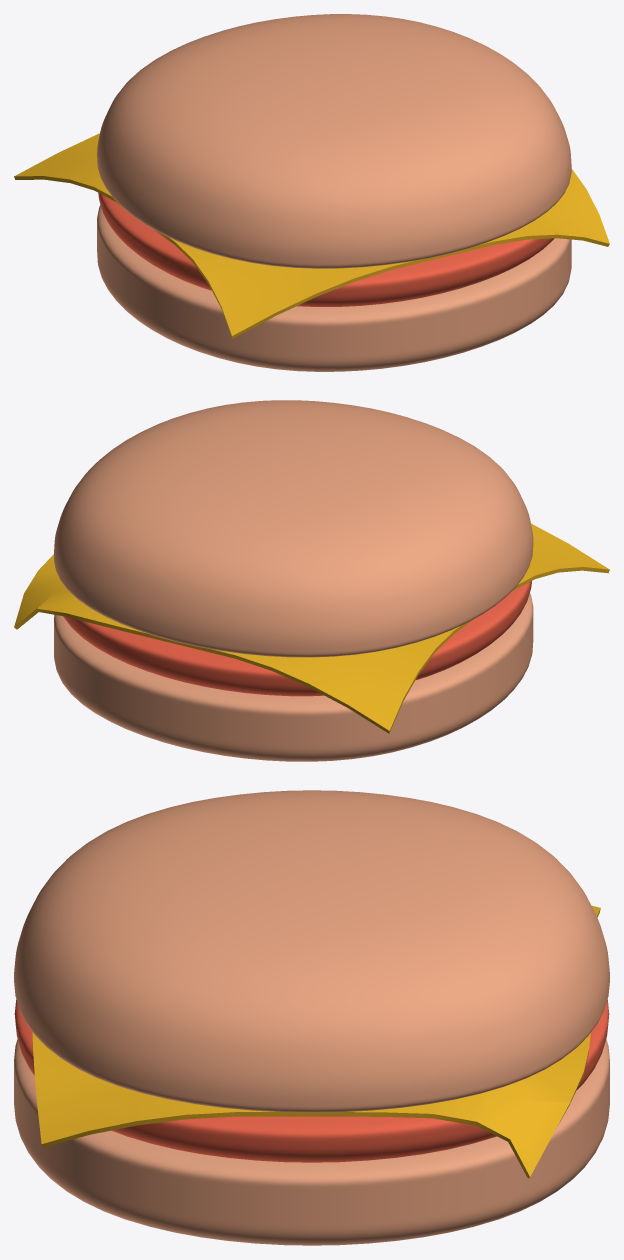
The model's file is hamburger.glb.
3 renders of one model, top to bottom at view 1: azimuth 30°, elevation 25°; view 2: azimuth 150°, elevation 25°; view 3: azimuth 270°, elevation 25°, orthographic. The views are drawn at different scales.
Parts seen in each view (by area): view 1: Cube.003, Cube, Plane, Cube.002; view 2: Cube.003, Cube, Plane, Cube.002; view 3: Cube.003, Cube, Plane, Cube.002.
Boxes of the visible parts, box(x1,y1,x2,y2) form: Cube.003: box(97, 14, 571, 268); Cube: box(97, 205, 571, 371); Plane: box(14, 133, 609, 338); Cube.002: box(98, 193, 554, 306); Cube.003: box(54, 400, 533, 657); Cube: box(54, 593, 533, 761); Plane: box(14, 523, 609, 733); Cube.002: box(63, 581, 531, 696); Cube.003: box(14, 790, 609, 1112); Cube: box(14, 1039, 609, 1245); Plane: box(32, 905, 600, 1178); Cube.002: box(14, 999, 609, 1162).
Bounding box in the file's own units: 9.3 × 4.89 × 9.16.
